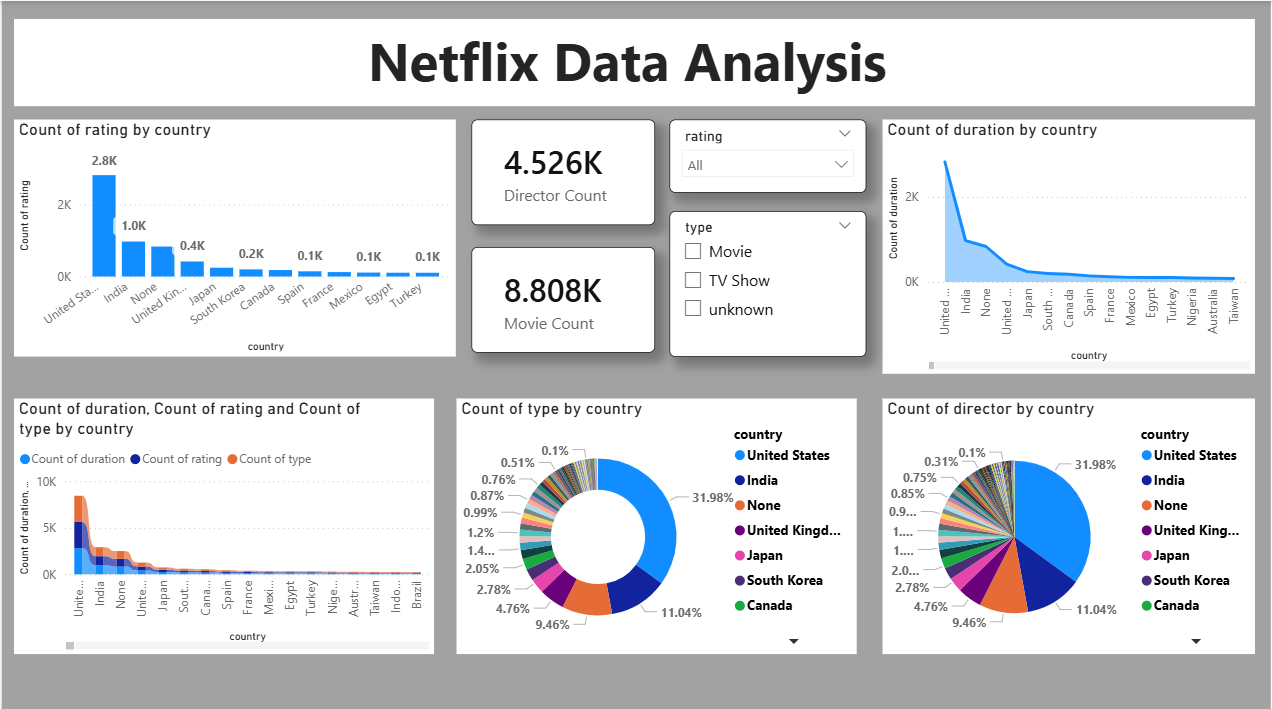

Layout of this report page (visuals, bound fields, positions):
{"tool":"powerbi","page":{"name":"Page 2","canvas":[1280,720],"ordinal":1},"visuals":[{"type":"lineStackedColumnComboChart","fields":{"Category":["netflix_titles.country"],"Y":["CountNonNull(netflix_titles.rating)"]},"box":[12.2,120.3,445.9,239.2],"z":0},{"type":"ribbonChart","fields":{"Category":["netflix_titles.country"],"Y":["CountNonNull(netflix_titles.duration)","CountNonNull(netflix_titles.rating)","CountNonNull(netflix_titles.type)"]},"box":[12.2,401.4,424.3,258.1],"z":1000},{"type":"pieChart","fields":{"Category":["netflix_titles.country"],"Y":["CountNonNull(netflix_titles.director)"]},"box":[889.2,401.4,375.7,258.1],"z":2000},{"type":"donutChart","fields":{"Category":["netflix_titles.country"],"Y":["CountNonNull(netflix_titles.type)"]},"box":[458.1,401.4,404.1,258.1],"z":3000},{"type":"cardVisual","fields":{"Data":["Count(netflix_titles.director)"]},"box":[474.3,120.3,185.1,106.8],"z":4000},{"type":"cardVisual","fields":{"Data":["CountNonNull(netflix_titles.Index)"]},"box":[474.3,248.6,185.1,106.8],"z":5000},{"type":"textbox","box":[12.2,17.6,1252.7,87.8],"z":6000},{"type":"areaChart","fields":{"Category":["netflix_titles.country"],"Y":["CountNonNull(netflix_titles.duration)"]},"box":[889.2,120.3,375.7,256.8],"z":7000},{"type":"slicer","fields":{"Values":["netflix_titles.rating"]},"box":[674.3,120.3,198.6,74.3],"z":8000},{"type":"slicer","fields":{"Values":["netflix_titles.type"]},"box":[674.3,212.2,198.6,147.3],"z":8001}]}

Visuals, with their boxes in screenshot pixels (x1, y1, x2, y2), scaled from the page's 1280x720 canvas onto the 1272x709 screenshot:
lineStackedColumnComboChart - netflix_titles.country x CountNonNull(netflix_titles.rating): locate(12, 118, 455, 354)
ribbonChart - netflix_titles.country x CountNonNull(netflix_titles.duration): locate(12, 395, 434, 649)
pieChart - netflix_titles.country x CountNonNull(netflix_titles.director): locate(884, 395, 1257, 649)
donutChart - netflix_titles.country x CountNonNull(netflix_titles.type): locate(455, 395, 857, 649)
cardVisual - Count(netflix_titles.director): locate(471, 118, 655, 224)
cardVisual - CountNonNull(netflix_titles.Index): locate(471, 245, 655, 350)
textbox: locate(12, 17, 1257, 104)
areaChart - netflix_titles.country x CountNonNull(netflix_titles.duration): locate(884, 118, 1257, 371)
slicer - netflix_titles.rating: locate(670, 118, 867, 192)
slicer - netflix_titles.type: locate(670, 209, 867, 354)
